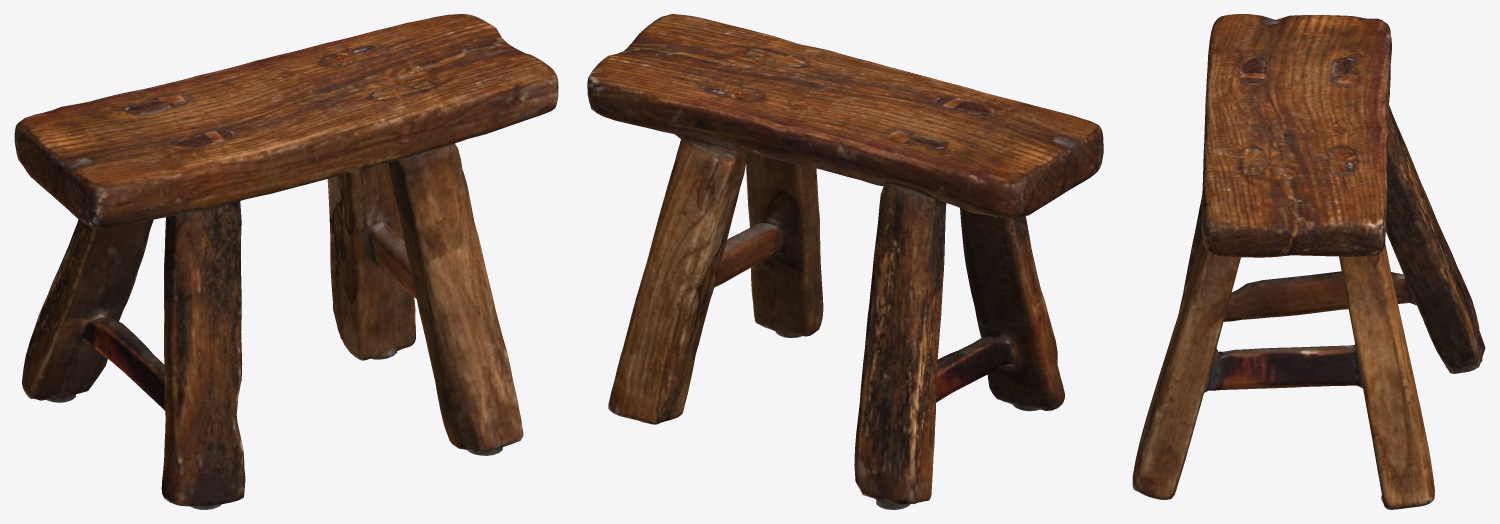
File: wooden_stool_02.glb
The picture shows the model from 3 angles, left to right: view 1: azimuth 30°, elevation 25°; view 2: azimuth 150°, elevation 25°; view 3: azimuth 270°, elevation 25°; orthographic projection. The views are drawn at different scales.
Parts seen in each view (by area): view 1: wooden_stool_02; view 2: wooden_stool_02; view 3: wooden_stool_02.
Part boxes in pixels (x1,y1,x2,y2): wooden_stool_02: (14, 14, 558, 509); wooden_stool_02: (587, 14, 1103, 509); wooden_stool_02: (1132, 14, 1485, 509).
Bounding box in the file's own units: 0.2652 × 0.1819 × 0.1831.
Materials: 1 (1 with a texture image).
